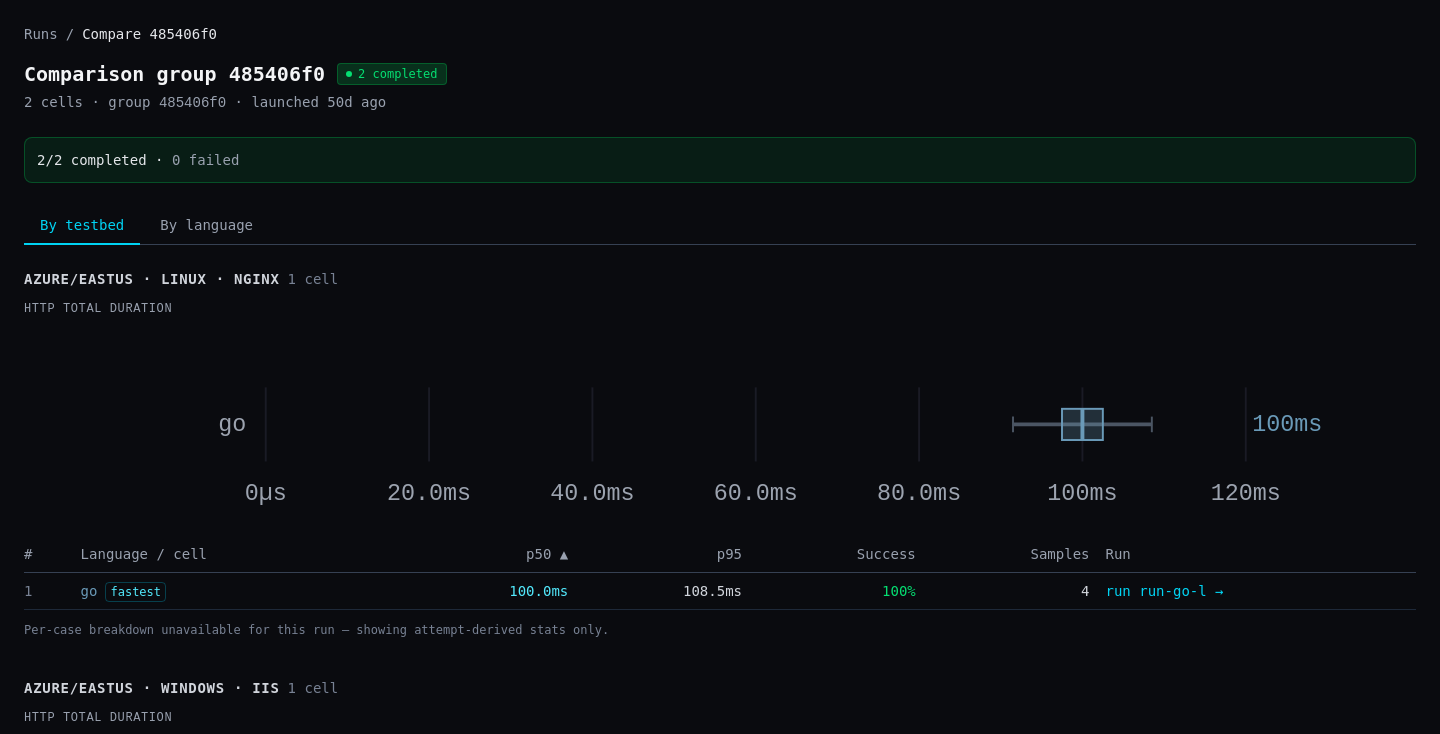
Scenario: ComparisonResultsPage › flags multi-variable language groups instead of implying causality
Click the button "By language".
click(207, 226)  # box left=144, top=207, right=269, bottom=245
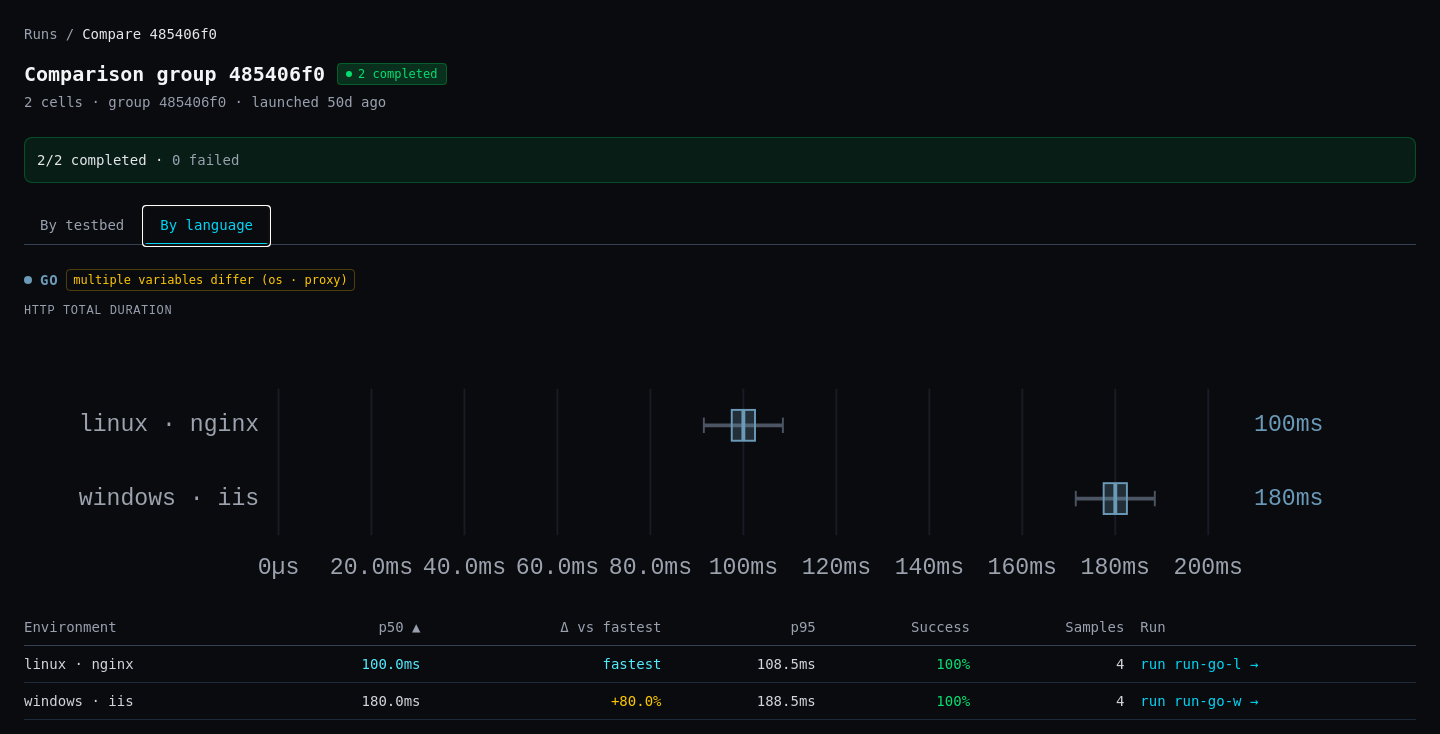
Now the text "multiple variables differ (os · proxy)" is shown, box left=66, top=269, right=355, bottom=291
Now the text "+80.0%" is shown, box left=611, top=693, right=662, bottom=709
